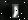person: (13, 5, 20, 19)
